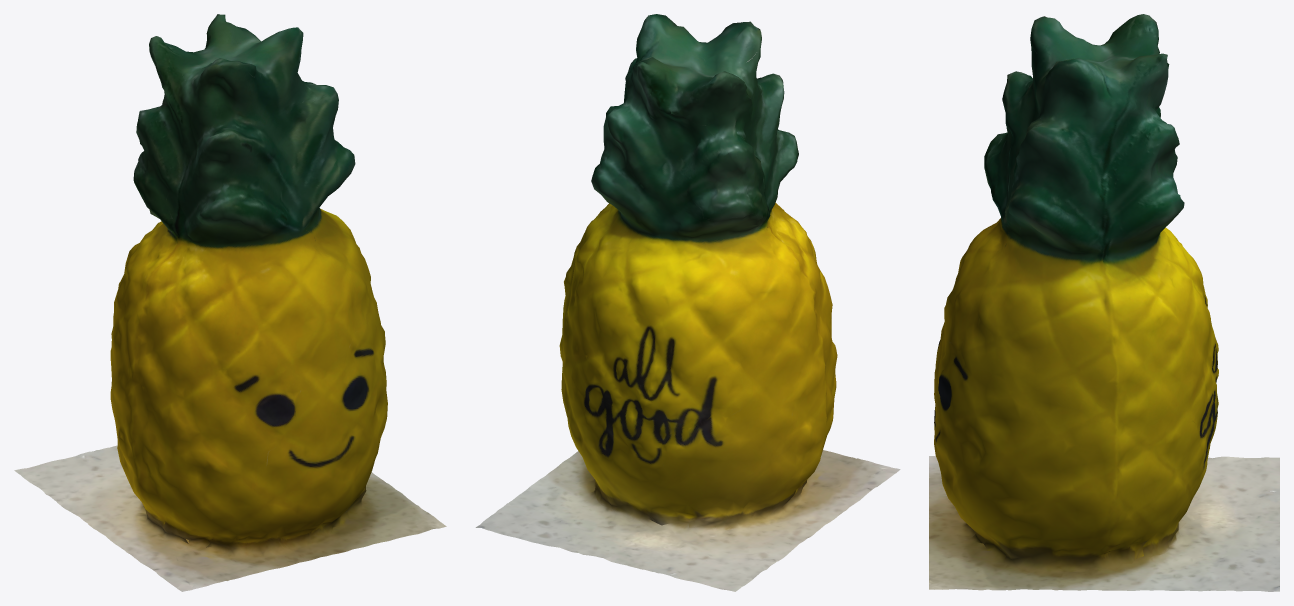
File: metascan.glb
The picture shows the model from 3 angles, left to right: view 1: azimuth 30°, elevation 25°; view 2: azimuth 150°, elevation 25°; view 3: azimuth 270°, elevation 25°; orthographic projection. The views are drawn at different scales.
Parts seen in each view (by area): view 1: metascan_20220425-1533 (1); view 2: metascan_20220425-1533 (1); view 3: metascan_20220425-1533 (1).
Part boxes in pixels (x1=…): metascan_20220425-1533 (1): x1=14, y1=14, x2=446, y2=591; metascan_20220425-1533 (1): x1=475, y1=14, x2=900, y2=591; metascan_20220425-1533 (1): x1=929, y1=14, x2=1279, y2=591.
Size of the model in its own units: 0.057 by 0.097 by 0.0628.
Materials: 1 (1 with a texture image).
